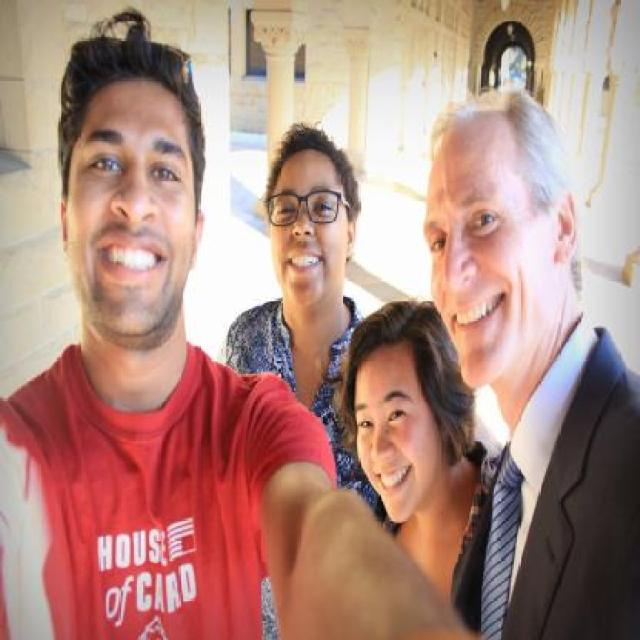sem_oculos: (53, 113, 202, 203), (409, 202, 589, 251), (256, 181, 365, 235), (348, 383, 449, 429)
